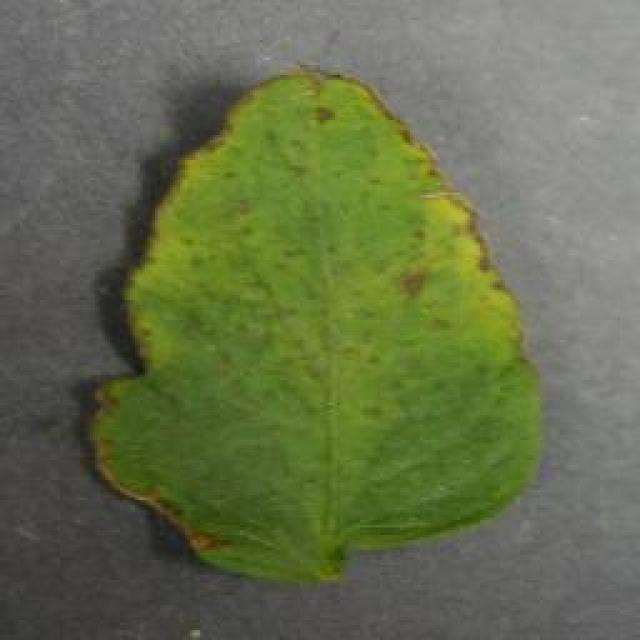Tomato yellow virus leaf: (86, 65, 546, 583)
